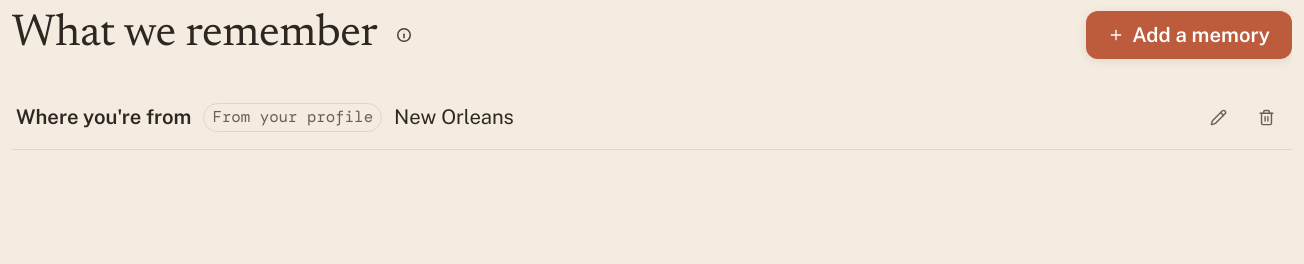
MemoriesList — row edit/forget › edit → save: writes the new value and exits edit mode
Click the button named "Edit". click: click(1218, 117)
box: x1=1196 y1=95 x2=1240 y2=139
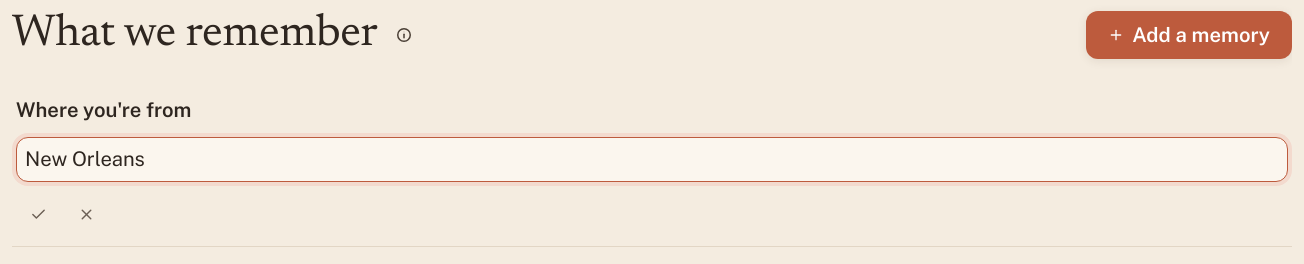
Replace the text in the field with placeholder "e.g. New Orleans, Louisiana" with "Austin". click: (652, 160)
box: x1=16 y1=137 x2=1288 y2=182
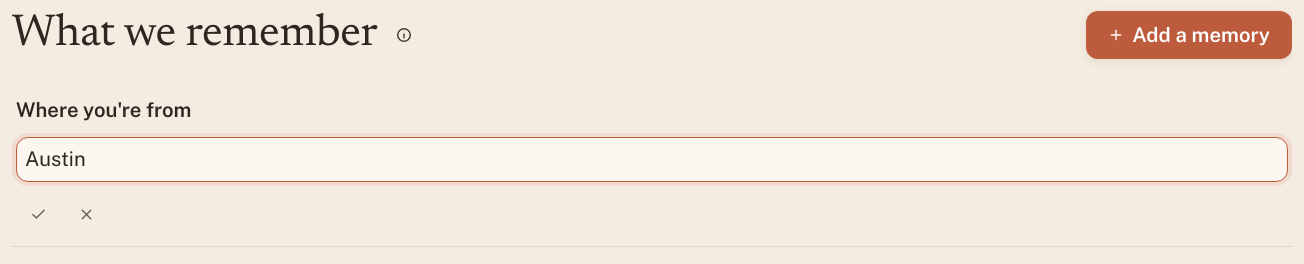
Click the button named "Save". click: click(38, 214)
box: x1=16 y1=192 x2=60 y2=236
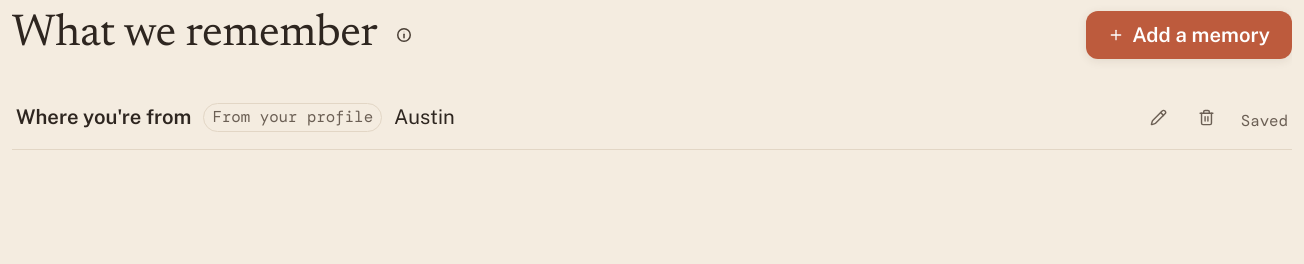
Expected: the text "Austin" is shown, x1=394 y1=105 x2=455 y2=129
